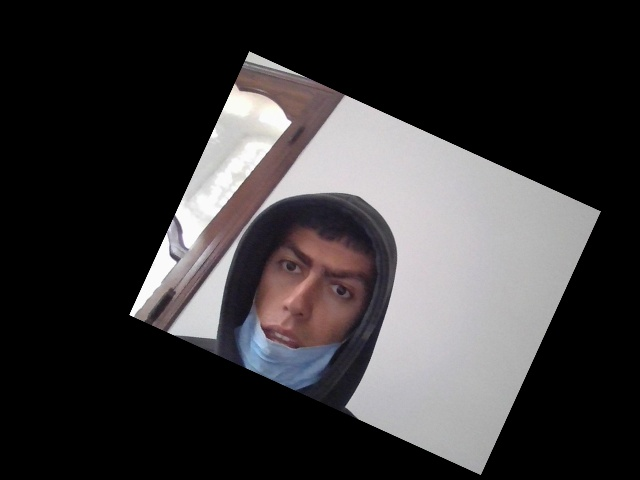mask_weared_incorrect: (234, 222, 380, 401)
